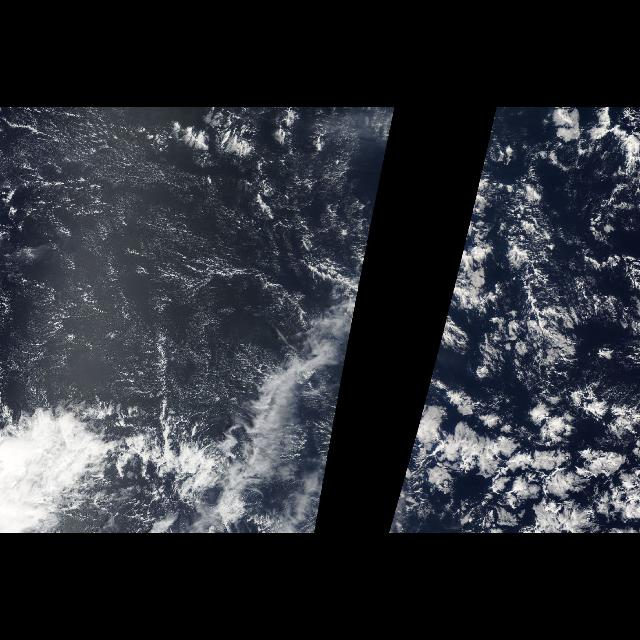Flower: (390, 194, 638, 526)
Sugar: (2, 111, 276, 401)
